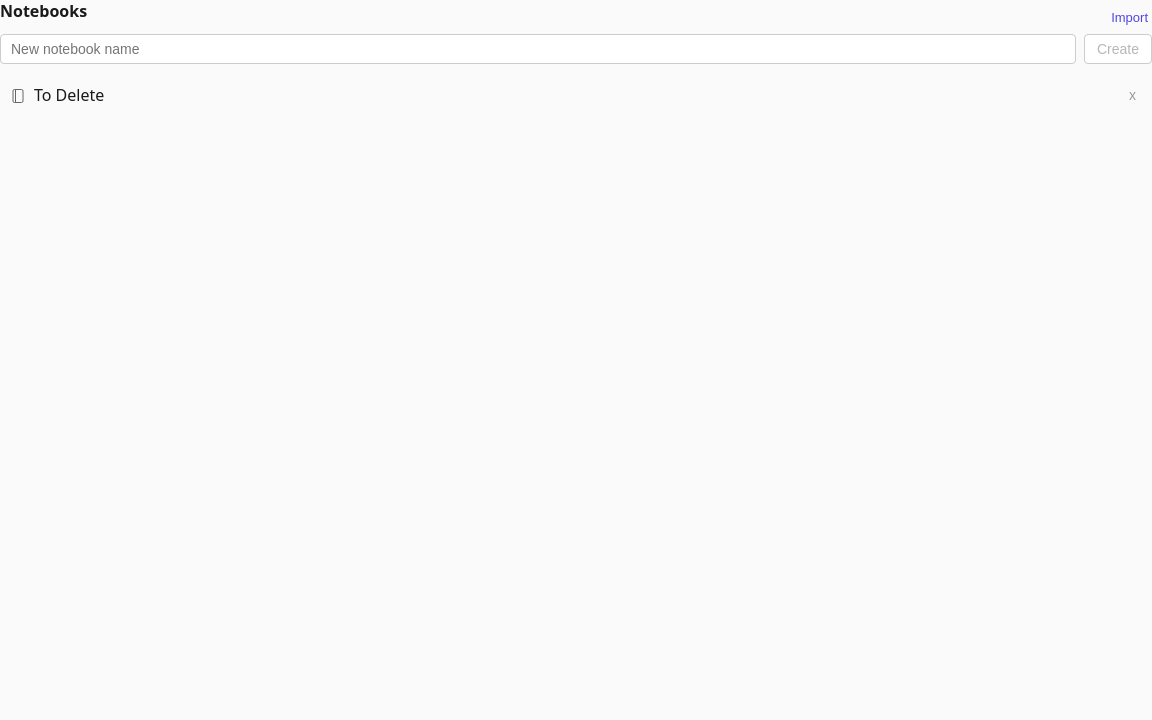
Test: NotebookList › asks for confirmation and deletes on confirm
The image size is (1152, 720).
Expected: the text "To Delete" is shown, [10,84,104,106]
Click the button titled "Delete notebook" at coordinates (1132, 95), box [1123,85,1142,105]
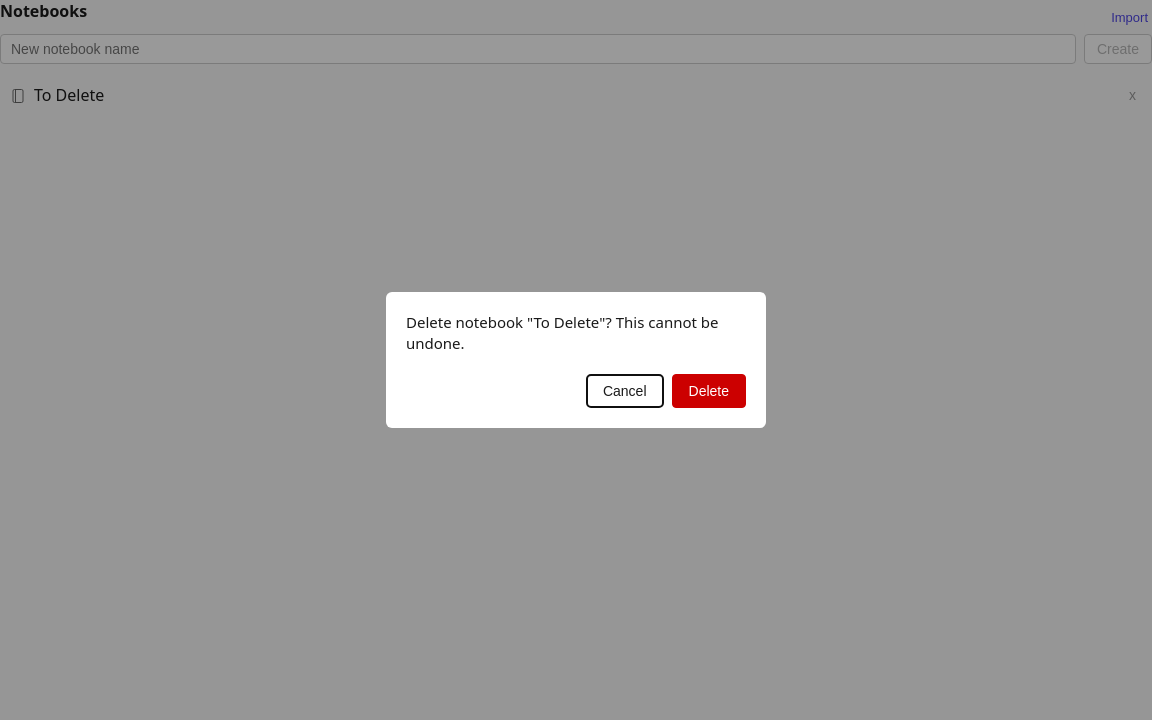
Expected: the dialog shows "Delete notebook \"To Delete\"? This cannot be undone.", [406,312,718,353]
Click the button "Delete" at coordinates (709, 391), box [672,374,746,408]
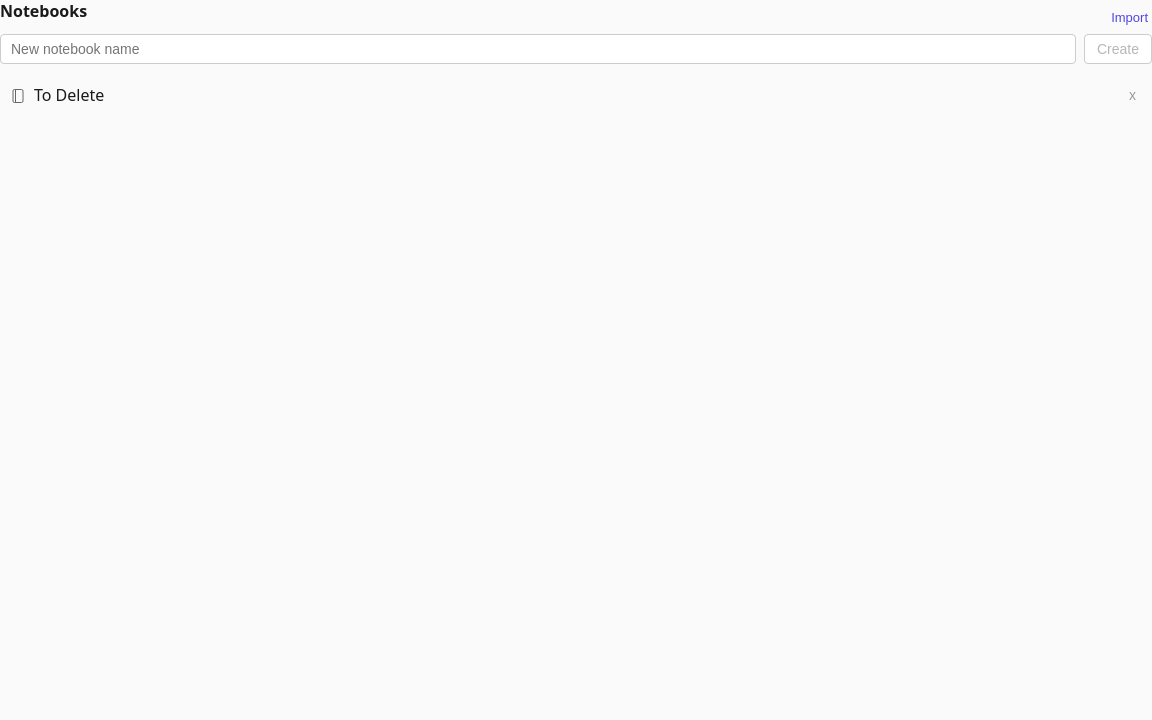
Expected: the dialog is gone
